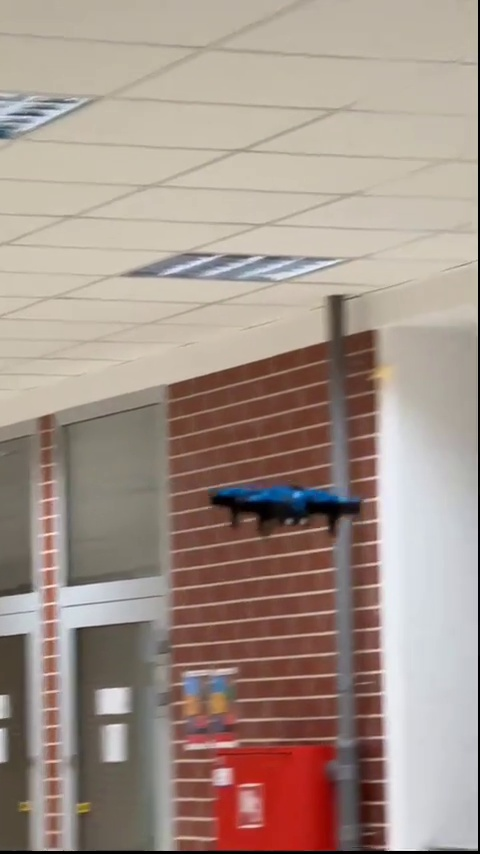drone: (211, 485, 362, 539)
